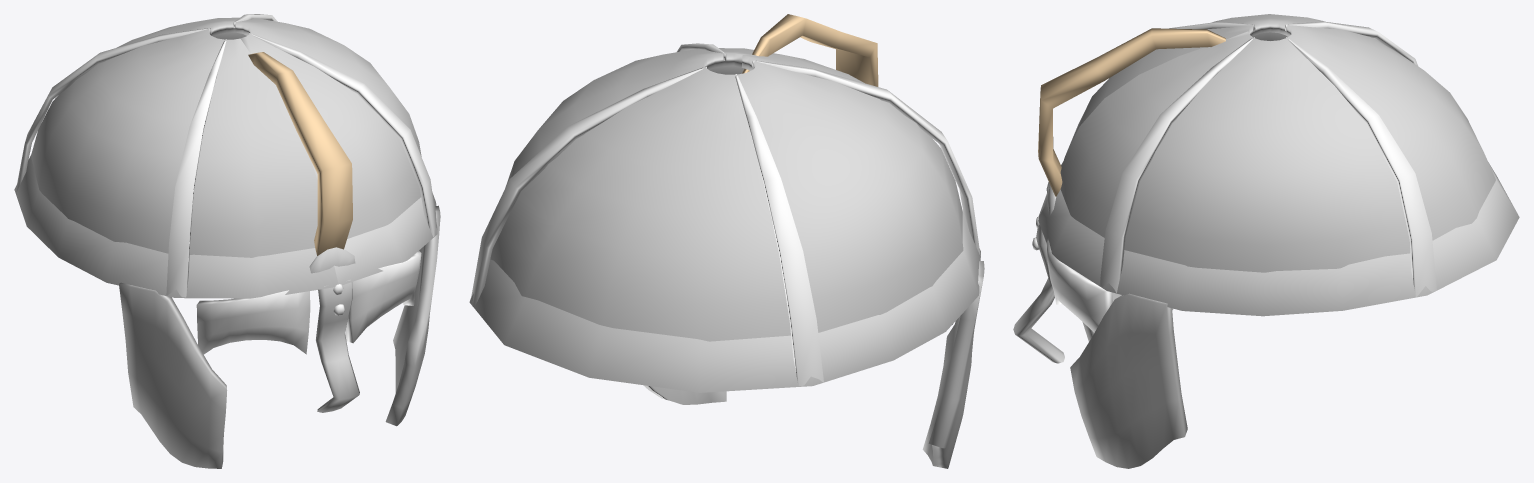
The model's file is helm-berserker-spectacle.glb.
3 renders of one model, left to right at view 1: azimuth 30°, elevation 25°; view 2: azimuth 150°, elevation 25°; view 3: azimuth 270°, elevation 25°, orthographic. The views are drawn at different scales.
Parts seen in each view (by area): view 1: helm-berserker-spectacle; view 2: helm-berserker-spectacle; view 3: helm-berserker-spectacle.
Part boxes in pixels (box(x1,y1,x2,y2)): helm-berserker-spectacle: box(14, 14, 440, 468); helm-berserker-spectacle: box(469, 14, 984, 468); helm-berserker-spectacle: box(1013, 14, 1519, 468).
Bounding box in the file's own units: 0.2554 × 0.2492 × 0.2993.
